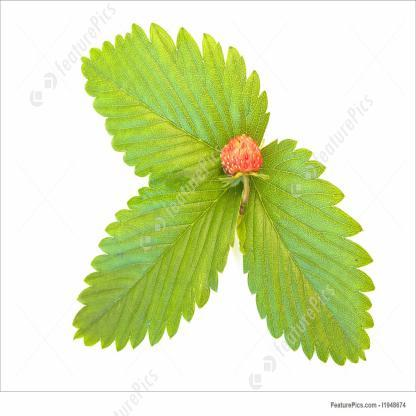Strawberry leaf: (228, 133, 378, 372), (69, 163, 245, 353), (81, 21, 276, 190)
